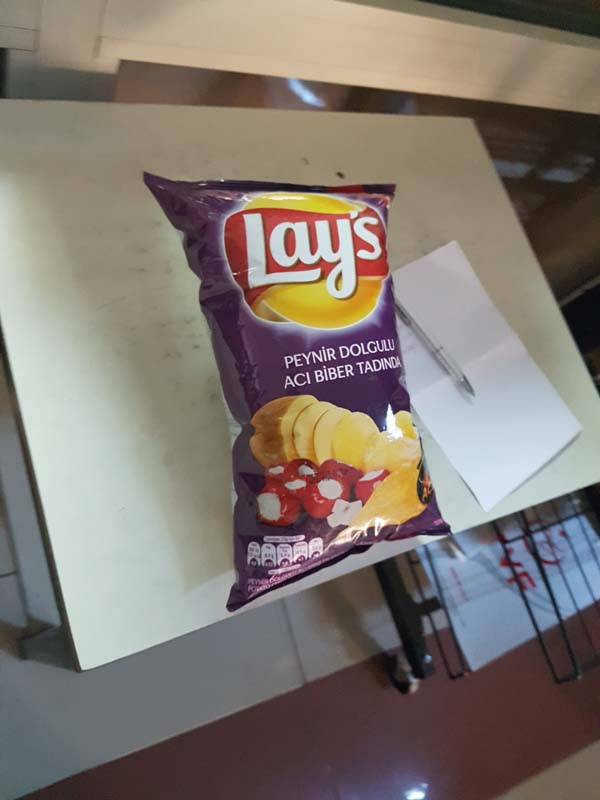layspeynirsoslu: (140, 166, 461, 607)
